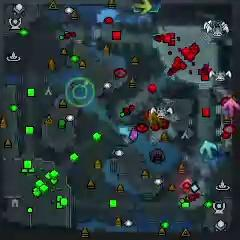Other: (179, 178, 195, 195)
x1: (223, 98, 240, 118)
x2: (135, 0, 152, 13)
x3: (200, 140, 218, 159)
x5: (147, 108, 163, 125)
